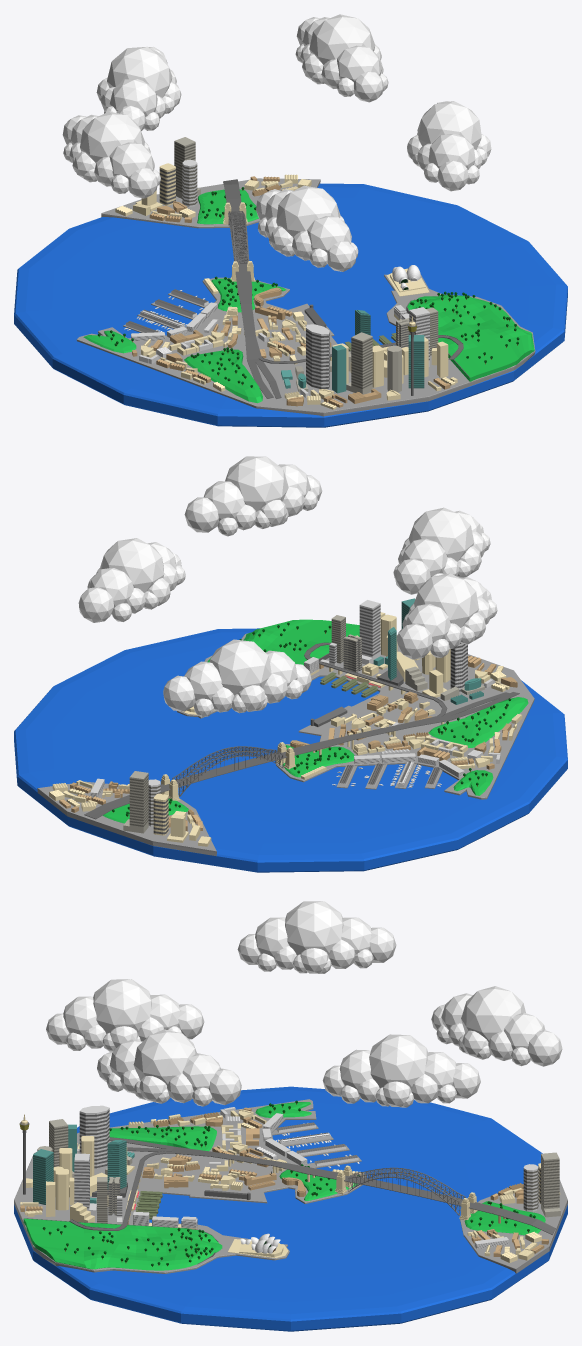
3 renders of one model, top to bottom at view 1: azimuth 30°, elevation 25°; view 2: azimuth 150°, elevation 25°; view 3: azimuth 270°, elevation 25°, orthographic.
Visible parts, largest first — view 1: Water; view 2: Water; view 3: Water.
Part boxes in pixels (<box>): Water: <box>14,14,567,427</box>; Water: <box>14,456,567,872</box>; Water: <box>14,901,567,1331</box>.
Bounding box in the file's own units: 219 × 101 × 219.
1 material, 1 textured.
